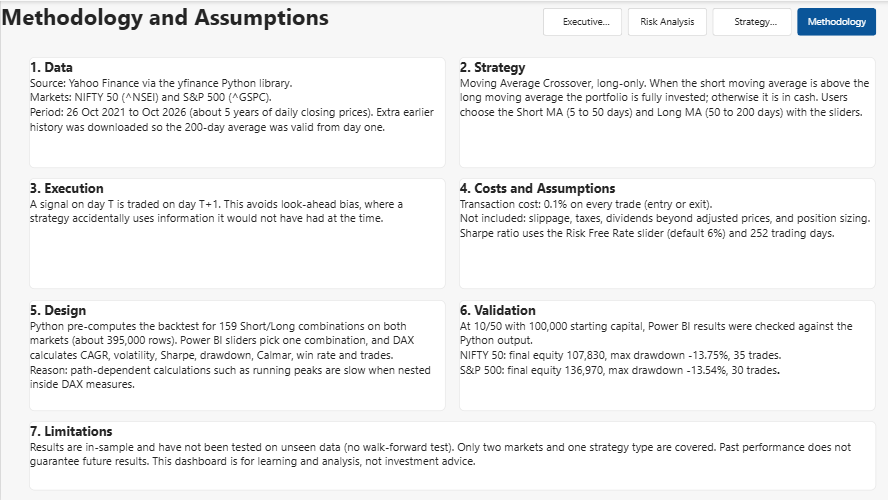

The page's visual inventory and layout, read from the dashboard file:
{"tool":"powerbi","page":{"name":"Methodology","canvas":[1280,720],"ordinal":3},"visuals":[{"type":"textbox","box":[0,0,1280,60],"z":0},{"type":"textbox","box":[40,80,600,160],"z":1000},{"type":"textbox","box":[660,80,600,160],"z":2000},{"type":"textbox","box":[40,255,600,160],"z":3000},{"type":"textbox","box":[660,255,600,160],"z":4000},{"type":"textbox","box":[40,430,600,160],"z":5000},{"type":"textbox","box":[660,430,600,160],"z":6000},{"type":"textbox","box":[40,605,1220,100],"z":7000},{"type":"pageNavigator","box":[780,10,480,40],"z":8000}]}

Visuals, with their boxes in screenshot pixels (x1, y1, x2, y2), scaled from the page's 1280x720 canvas onto the 888x500 screenshot:
textbox: [0, 0, 887, 42]
textbox: [28, 56, 444, 167]
textbox: [458, 56, 874, 167]
textbox: [28, 177, 444, 288]
textbox: [458, 177, 874, 288]
textbox: [28, 299, 444, 410]
textbox: [458, 299, 874, 410]
textbox: [28, 420, 874, 490]
pageNavigator: [541, 7, 874, 35]
